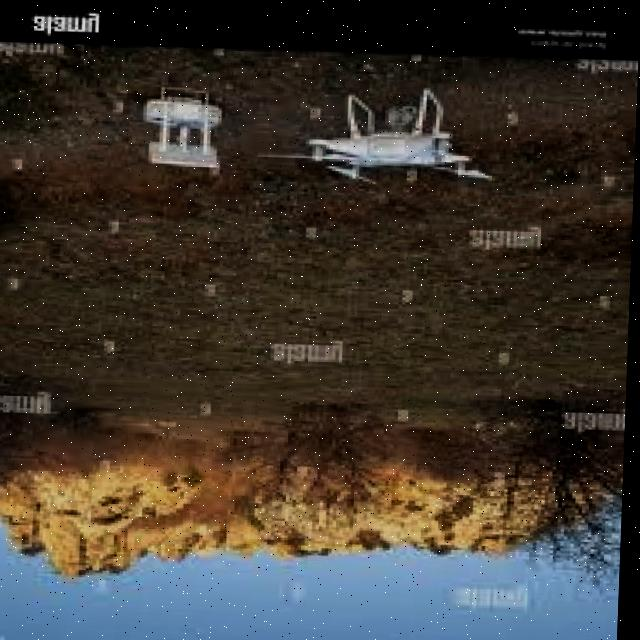drone: (277, 85, 504, 191)
